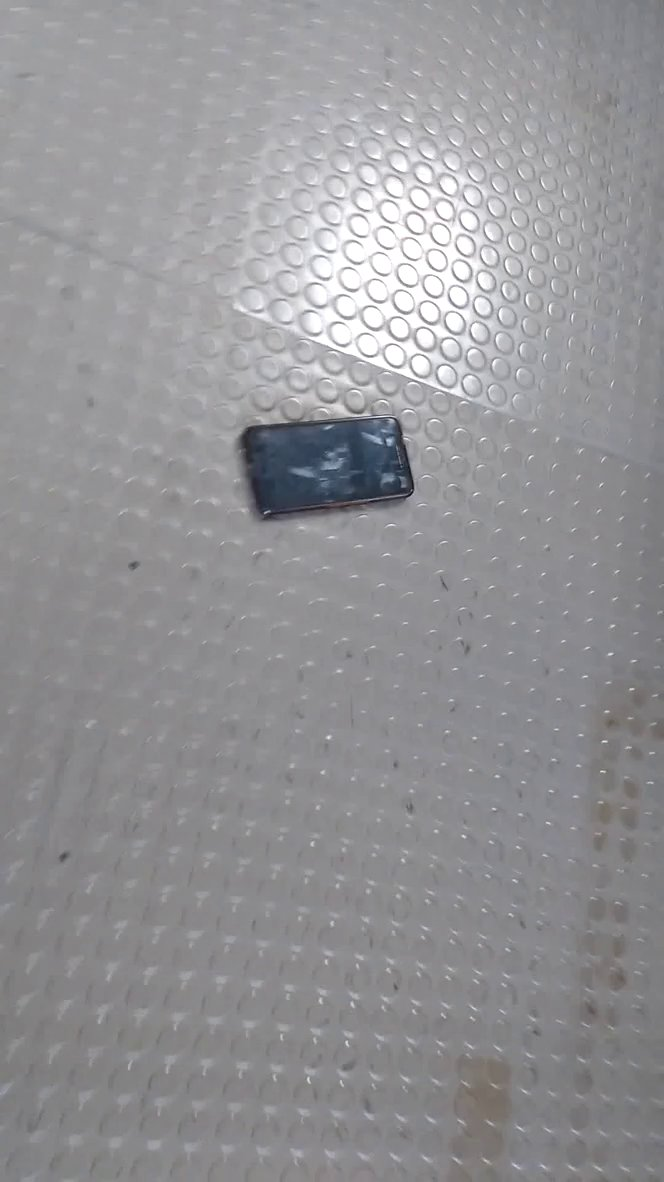phone: (229, 403, 425, 536)
